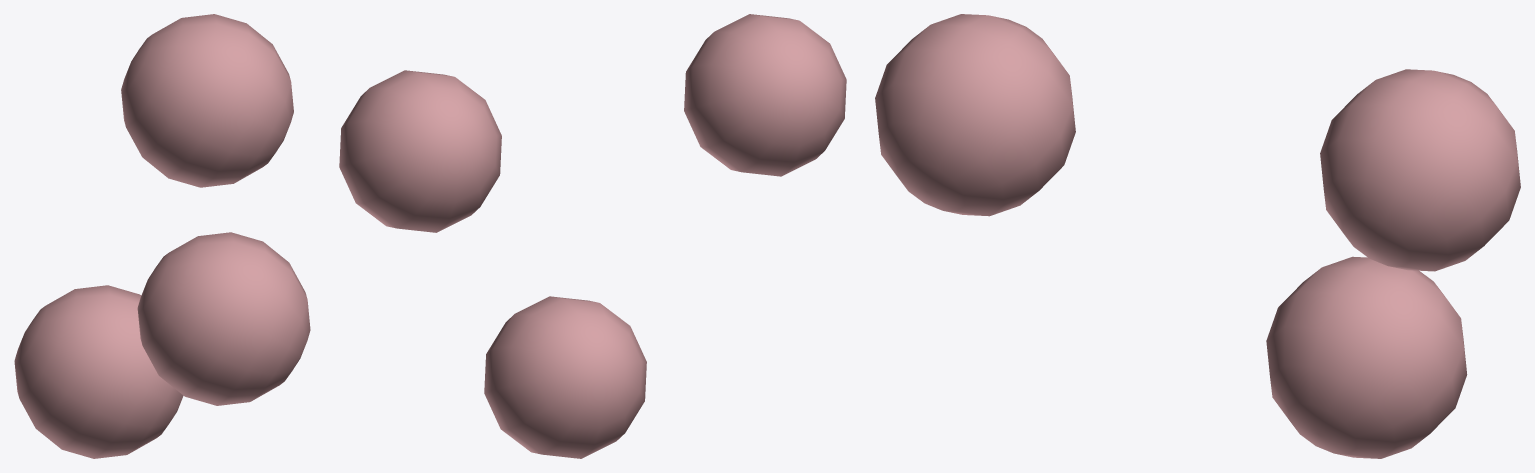
The picture shows the model from 3 angles, left to right: view 1: azimuth 30°, elevation 25°; view 2: azimuth 150°, elevation 25°; view 3: azimuth 270°, elevation 25°; orthographic projection. The views are drawn at different scales.
Parts seen in each view (by area): view 1: ZA_be690edaff383022; view 2: ZA_be690edaff383022; view 3: ZA_be690edaff383022.
Boxes of the visible parts, left/top/right/bottom form: ZA_be690edaff383022: left=14, top=14, right=310, bottom=458; ZA_be690edaff383022: left=339, top=14, right=846, bottom=458; ZA_be690edaff383022: left=875, top=14, right=1520, bottom=458.
Bounding box in the file's own units: 0.00557 × 0.00625 × 0.0082.
